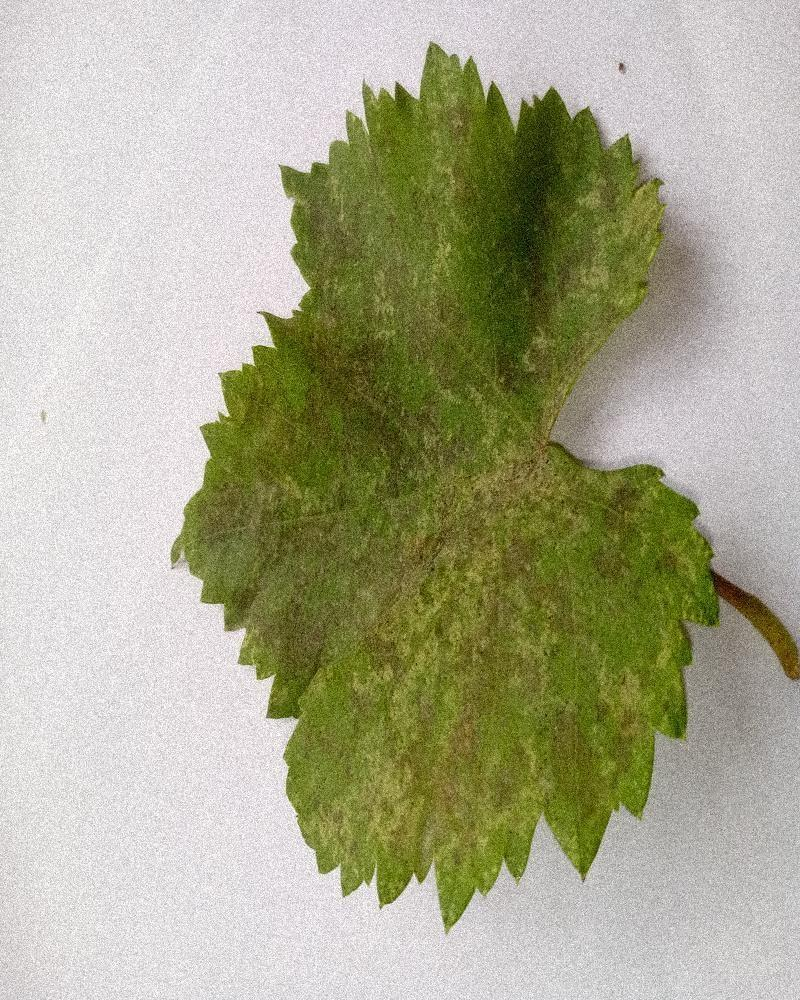Powdery-Mildew: (418, 63, 654, 307), (402, 446, 657, 650), (227, 287, 446, 523), (551, 594, 713, 862), (298, 722, 513, 894), (263, 541, 457, 724), (285, 133, 423, 283)
